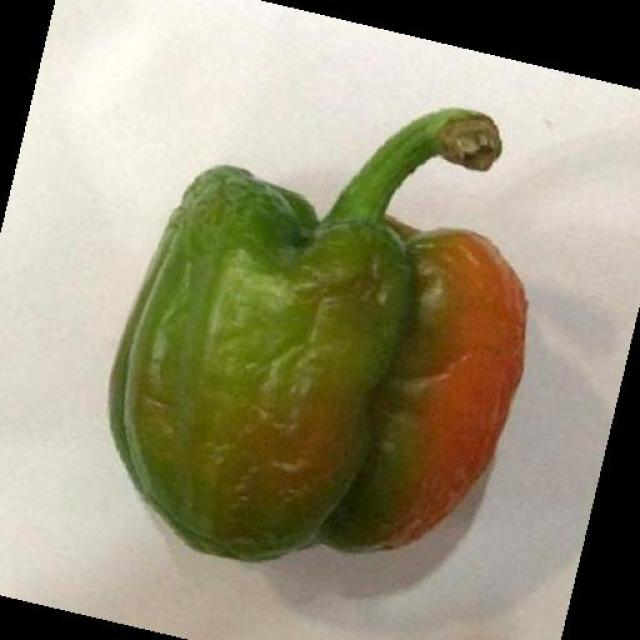Stale_Capsicum: (128, 144, 568, 588)
